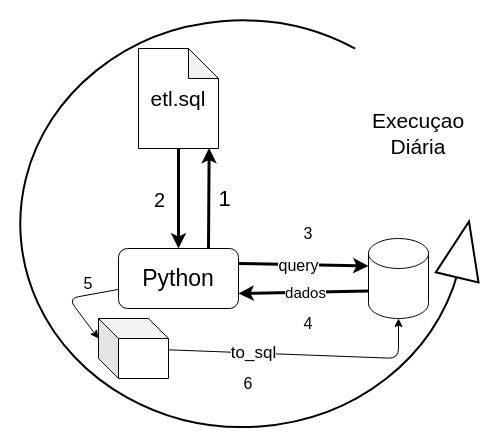
Image size: 496x446. Some labels were removed from this diagram. Here are the shapes that lost their labels. From the top down, the centre of each, then its label:
[398,278]: database.db
[133,348]: ML
